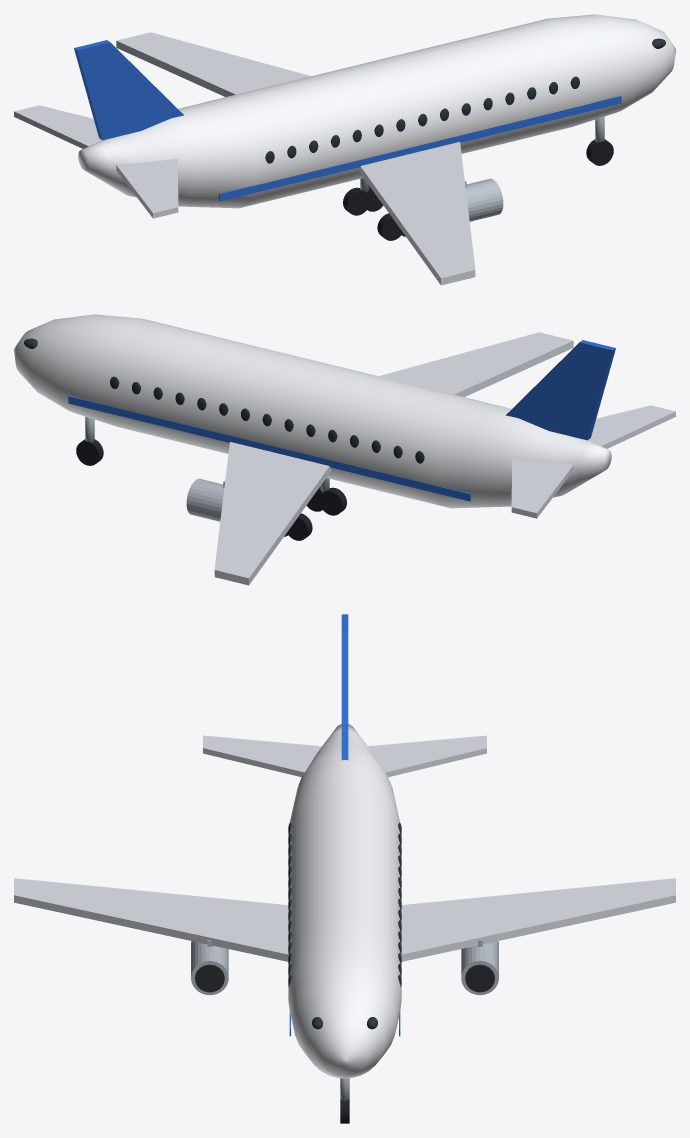
Rendered from avion.glb.
3 renders of one model, top to bottom at view 1: azimuth 30°, elevation 25°; view 2: azimuth 150°, elevation 25°; view 3: azimuth 270°, elevation 25°, orthographic.
Parts seen in each view (by area): view 1: fuselaje, prisma, prisma.004, prisma.002, prisma.005, prisma.001, tren, prisma.003, Cylinder; view 2: fuselaje, prisma.002, prisma.004, prisma, prisma.006, prisma.003, tren, prisma.001, Cylinder.002; view 3: fuselaje, prisma, prisma.002, prisma.001, prisma.003, prisma.004, Cylinder, Cylinder.002.
Part boxes in pixels (x1=…): fuselaje: x1=78, y1=14, x2=675, y2=208; prisma: x1=358, y1=142, x2=475, y2=285; prisma.004: x1=74, y1=40, x2=183, y2=140; prisma.002: x1=116, y1=32, x2=310, y2=96; prisma.005: x1=219, y1=96, x2=621, y2=201; prisma.001: x1=116, y1=158, x2=178, y2=218; tren: x1=343, y1=116, x2=613, y2=240; prisma.003: x1=14, y1=105, x2=101, y2=148; Cylinder: x1=465, y1=178, x2=503, y2=221; fuselaje: x1=14, y1=314, x2=611, y2=508; prisma.002: x1=214, y1=442, x2=331, y2=585; prisma.004: x1=506, y1=340, x2=615, y2=440; prisma: x1=379, y1=332, x2=573, y2=396; prisma.006: x1=68, y1=396, x2=470, y2=501; prisma.003: x1=511, y1=458, x2=573, y2=518; tren: x1=76, y1=416, x2=346, y2=540; prisma.001: x1=588, y1=405, x2=675, y2=448; Cylinder.002: x1=186, y1=478, x2=224, y2=521; fuselaje: x1=288, y1=724, x2=401, y2=1078; prisma: x1=14, y1=878, x2=288, y2=961; prisma.002: x1=401, y1=878, x2=675, y2=961; prisma.001: x1=203, y1=735, x2=321, y2=777; prisma.003: x1=368, y1=735, x2=486, y2=777; prisma.004: x1=341, y1=614, x2=348, y2=760; Cylinder: x1=191, y1=941, x2=228, y2=995; Cylinder.002: x1=461, y1=941, x2=498, y2=995.
Bounding box in the file's own units: 5.22 × 2.08 × 4.9.
